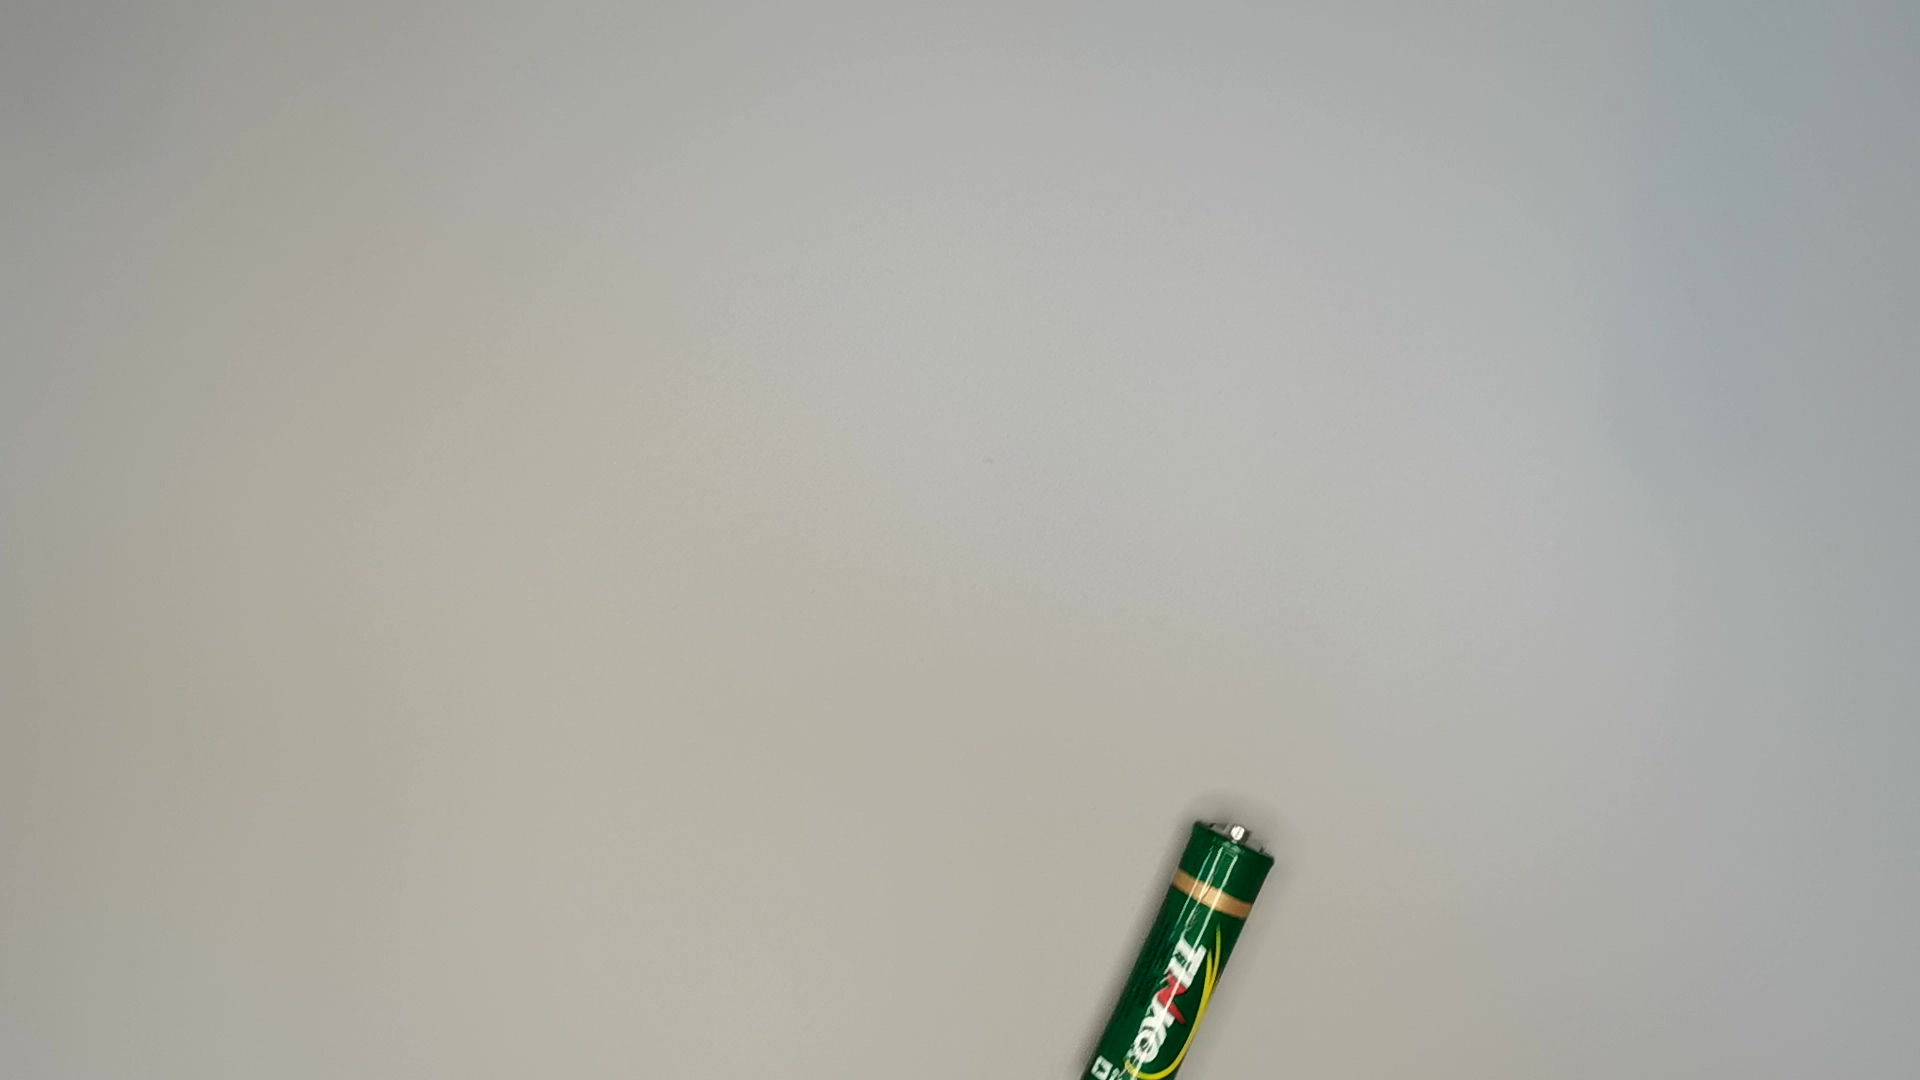battery: (1056, 818, 1280, 1080)
